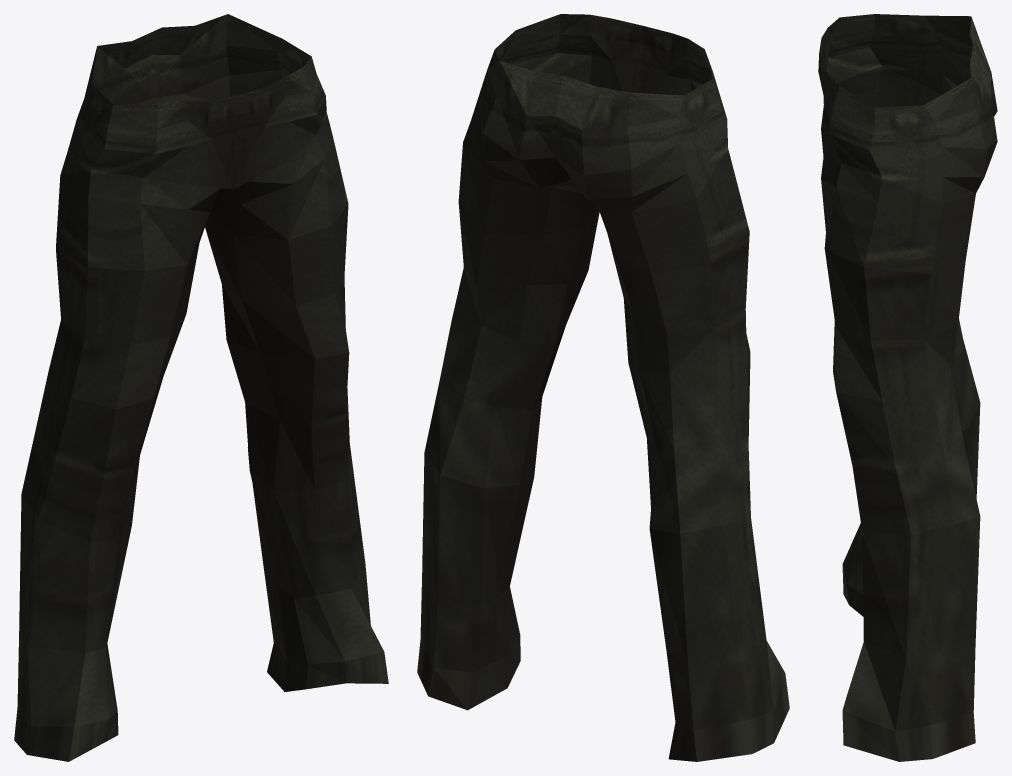
The model's file is mhw_cortu_cargo_pants.glb.
3 views of the same model, side by side, from view 1: azimuth 30°, elevation 25°; view 2: azimuth 150°, elevation 25°; view 3: azimuth 270°, elevation 25° (orthographic). The views are drawn at different scales.
Visible parts, largest first — view 1: mhw_cortu_cargo_pants; view 2: mhw_cortu_cargo_pants; view 3: mhw_cortu_cargo_pants.
Part boxes in pixels (box(x1,y1,x2,y2)): mhw_cortu_cargo_pants: box(14, 14, 388, 761); mhw_cortu_cargo_pants: box(417, 14, 789, 761); mhw_cortu_cargo_pants: box(818, 14, 997, 761).
Size of the model in its own units: 0.5718 by 1.05 by 0.2654.
Materials: 1 (1 with a texture image).
